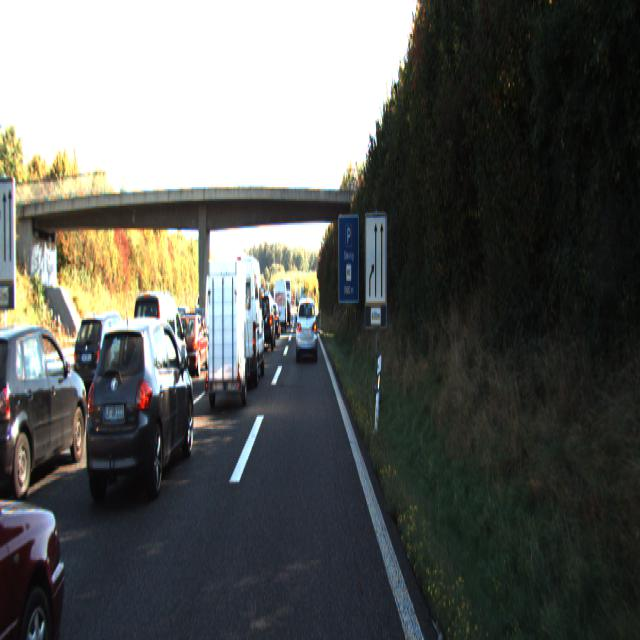Car: (84, 314, 197, 510), (0, 373, 80, 638), (0, 321, 94, 509), (201, 258, 250, 414), (130, 287, 190, 404), (73, 312, 139, 405), (221, 253, 265, 389), (177, 312, 210, 377), (296, 294, 318, 360), (253, 293, 275, 352), (274, 279, 288, 330), (266, 305, 280, 342)
